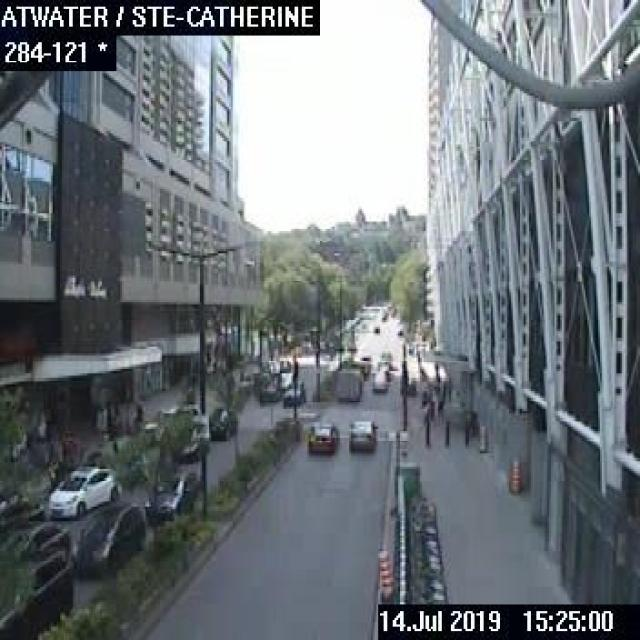construction: (376, 546, 390, 598), (507, 456, 521, 491), (476, 424, 486, 454)
pedestrian: (435, 392, 443, 422)
vehicle: (0, 546, 75, 638), (71, 501, 143, 577), (47, 463, 120, 515), (0, 518, 69, 558), (144, 470, 196, 518), (305, 420, 338, 453), (346, 416, 376, 451), (331, 368, 362, 400), (209, 405, 235, 435), (281, 378, 304, 407), (370, 368, 388, 389), (376, 358, 389, 372)
